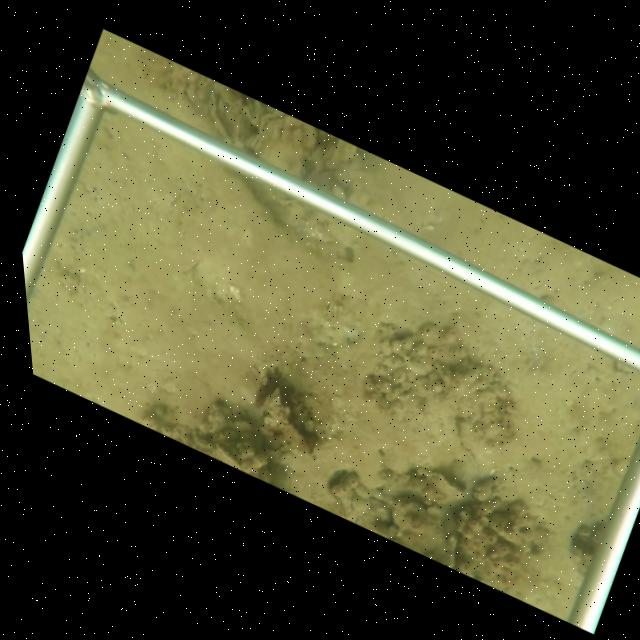Oyster-Closed: (249, 111, 317, 181)
Oyster-Indeterminate: (455, 417, 500, 479)
